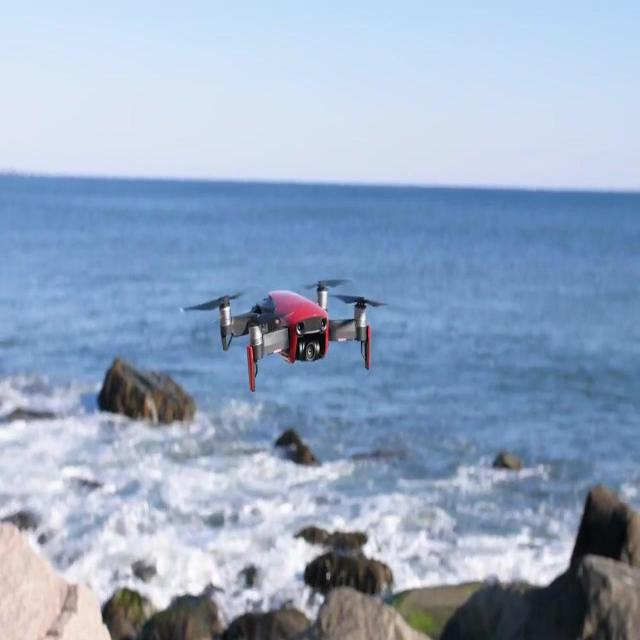drone: (184, 276, 384, 395)
